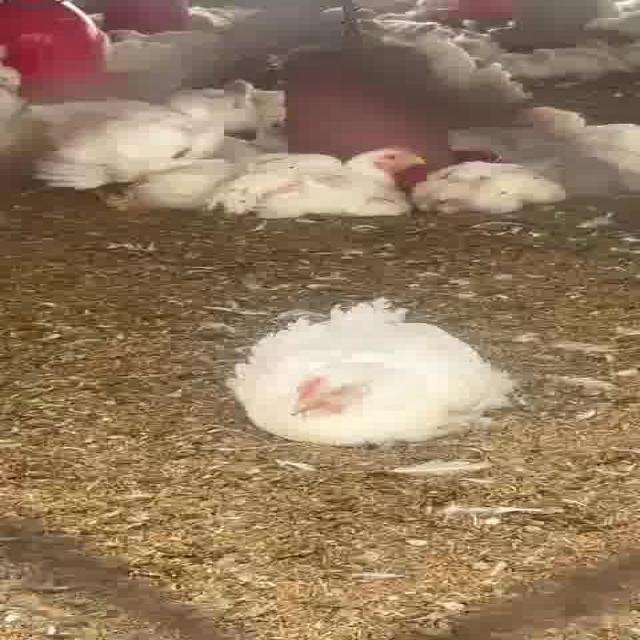AbNormal: (240, 304, 484, 440), (226, 146, 424, 217)
